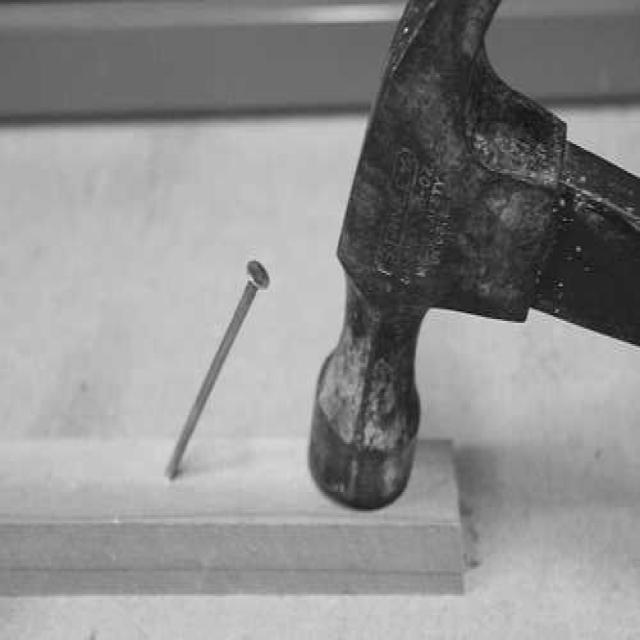hammer: (314, 0, 640, 539)
